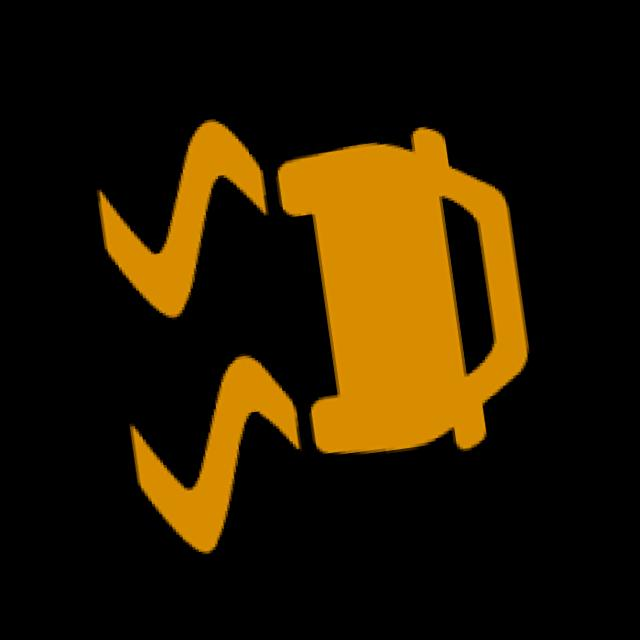kontrolka: (53, 48, 579, 584)
